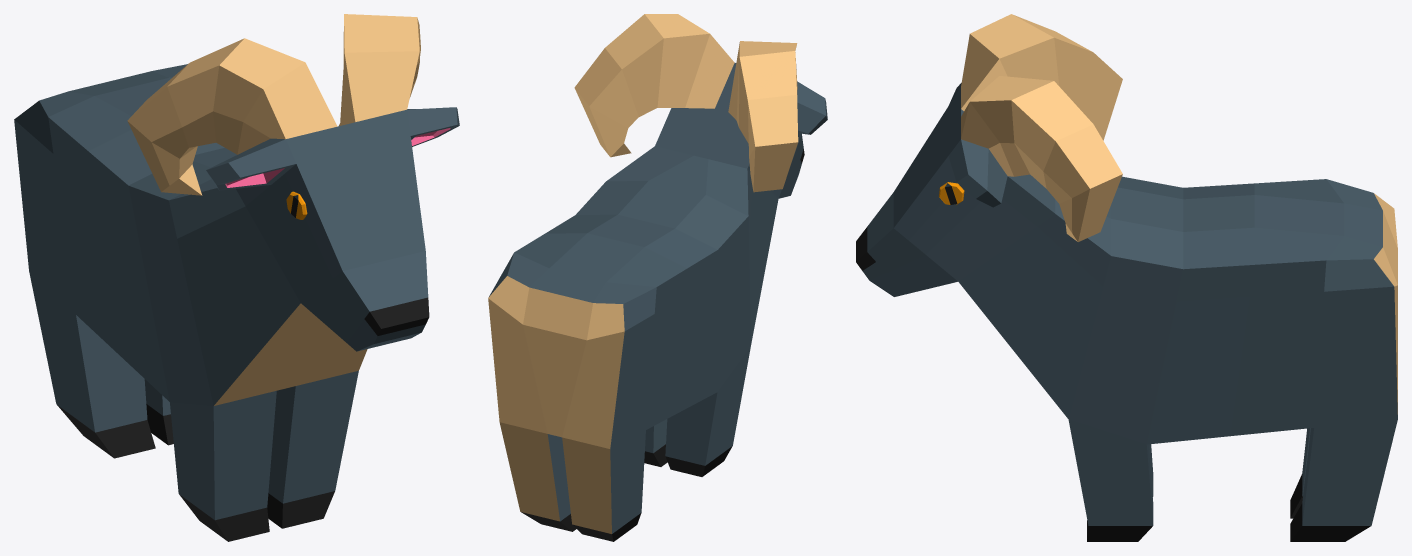
Rendered from animals-goat-108.glb.
3 renders of one model, left to right at view 1: azimuth 30°, elevation 25°; view 2: azimuth 150°, elevation 25°; view 3: azimuth 270°, elevation 25°, orthographic. The views are drawn at different scales.
Visible parts, largest first — view 1: Ram_01_Cube.035; view 2: Ram_01_Cube.035; view 3: Ram_01_Cube.035.
Boxes of the visible parts, bbox=[...] form: Ram_01_Cube.035: bbox=[14, 14, 459, 541]; Ram_01_Cube.035: bbox=[488, 14, 827, 541]; Ram_01_Cube.035: bbox=[856, 14, 1397, 541].
Size of the model in its own units: 17.75 by 30.02 by 31.77.
